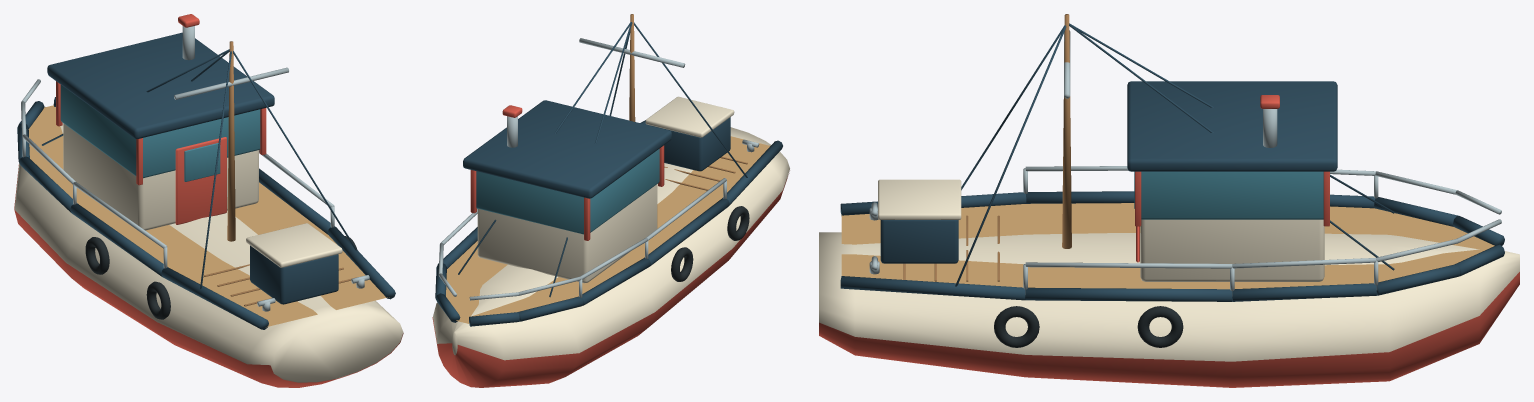
The model's file is fishing_boat.glb.
The picture shows the model from 3 angles, left to right: view 1: azimuth 30°, elevation 25°; view 2: azimuth 150°, elevation 25°; view 3: azimuth 270°, elevation 25°; orthographic projection. The views are drawn at different scales.
Parts seen in each view (by area): view 1: fishing_boat_Ivory, fishing_boat_Navy, fishing_boat_WoodLight, fishing_boat_Paint, fishing_boat_Glass, fishing_boat_Aluminium, fishing_boat_Wood, fishing_boat_Rubber; view 2: fishing_boat_Ivory, fishing_boat_Navy, fishing_boat_WoodLight, fishing_boat_Paint, fishing_boat_Glass, fishing_boat_Aluminium, fishing_boat_Rubber, fishing_boat_Wood; view 3: fishing_boat_Ivory, fishing_boat_Navy, fishing_boat_WoodLight, fishing_boat_Paint, fishing_boat_Glass, fishing_boat_Aluminium, fishing_boat_Rubber, fishing_boat_Wood.
Part boxes in pixels (x1,y1,x2,y2): fishing_boat_Ivory: (14,107,403,382); fishing_boat_Navy: (17,32,395,329); fishing_boat_WoodLight: (28,105,389,327); fishing_boat_Paint: (14,14,403,387); fishing_boat_Glass: (60,85,260,181); fishing_boat_Aluminium: (21,26,369,311); fishing_boat_Wood: (204,41,356,306); fishing_boat_Rubber: (85,236,357,319); fishing_boat_Ivory: (433,96,789,360); fishing_boat_Navy: (435,22,782,326); fishing_boat_WoodLight: (446,136,769,323); fishing_boat_Paint: (432,105,789,387); fishing_boat_Glass: (476,149,659,234); fishing_boat_Aluminium: (438,38,759,300); fishing_boat_Rubber: (671,206,749,281); fishing_boat_Wood: (629,14,747,190); fishing_boat_Ivory: (819,179,1519,361); fishing_boat_Navy: (840,23,1504,301); fishing_boat_WoodLight: (841,203,1494,289); fishing_boat_Paint: (819,95,1519,387); fishing_boat_Glass: (1134,171,1323,219); fishing_boat_Aluminium: (869,30,1501,296); fishing_boat_Rubber: (994,306,1183,347); fishing_boat_Wood: (903,14,1071,281).
Size of the model in its own units: 2.97 by 4.33 by 7.8.
